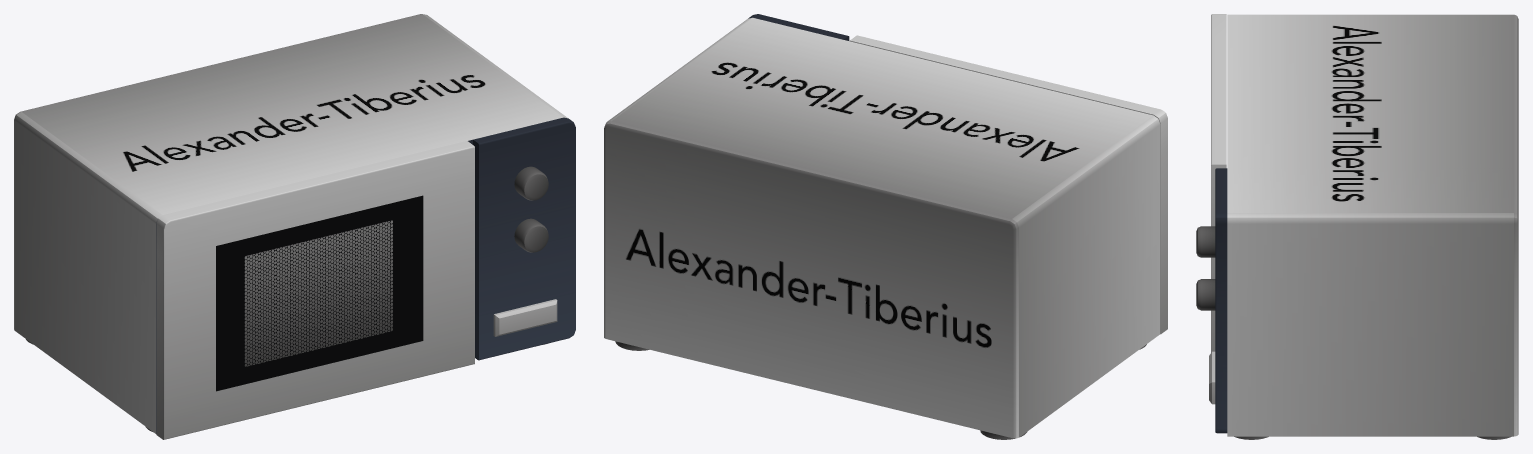
Rendered from microwave-oven.obj.
The picture shows the model from 3 angles, left to right: view 1: azimuth 30°, elevation 25°; view 2: azimuth 150°, elevation 25°; view 3: azimuth 270°, elevation 25°; orthographic projection.
Visible parts, largest first — view 1: microwave1; view 2: microwave1; view 3: microwave1.
Boxes of the visible parts, bbox=[...] form: microwave1: bbox=[14, 14, 575, 439]; microwave1: bbox=[604, 14, 1167, 439]; microwave1: bbox=[1196, 14, 1518, 439].
Bounding box in the file's own units: 0.4 × 0.2055 × 0.2655.
